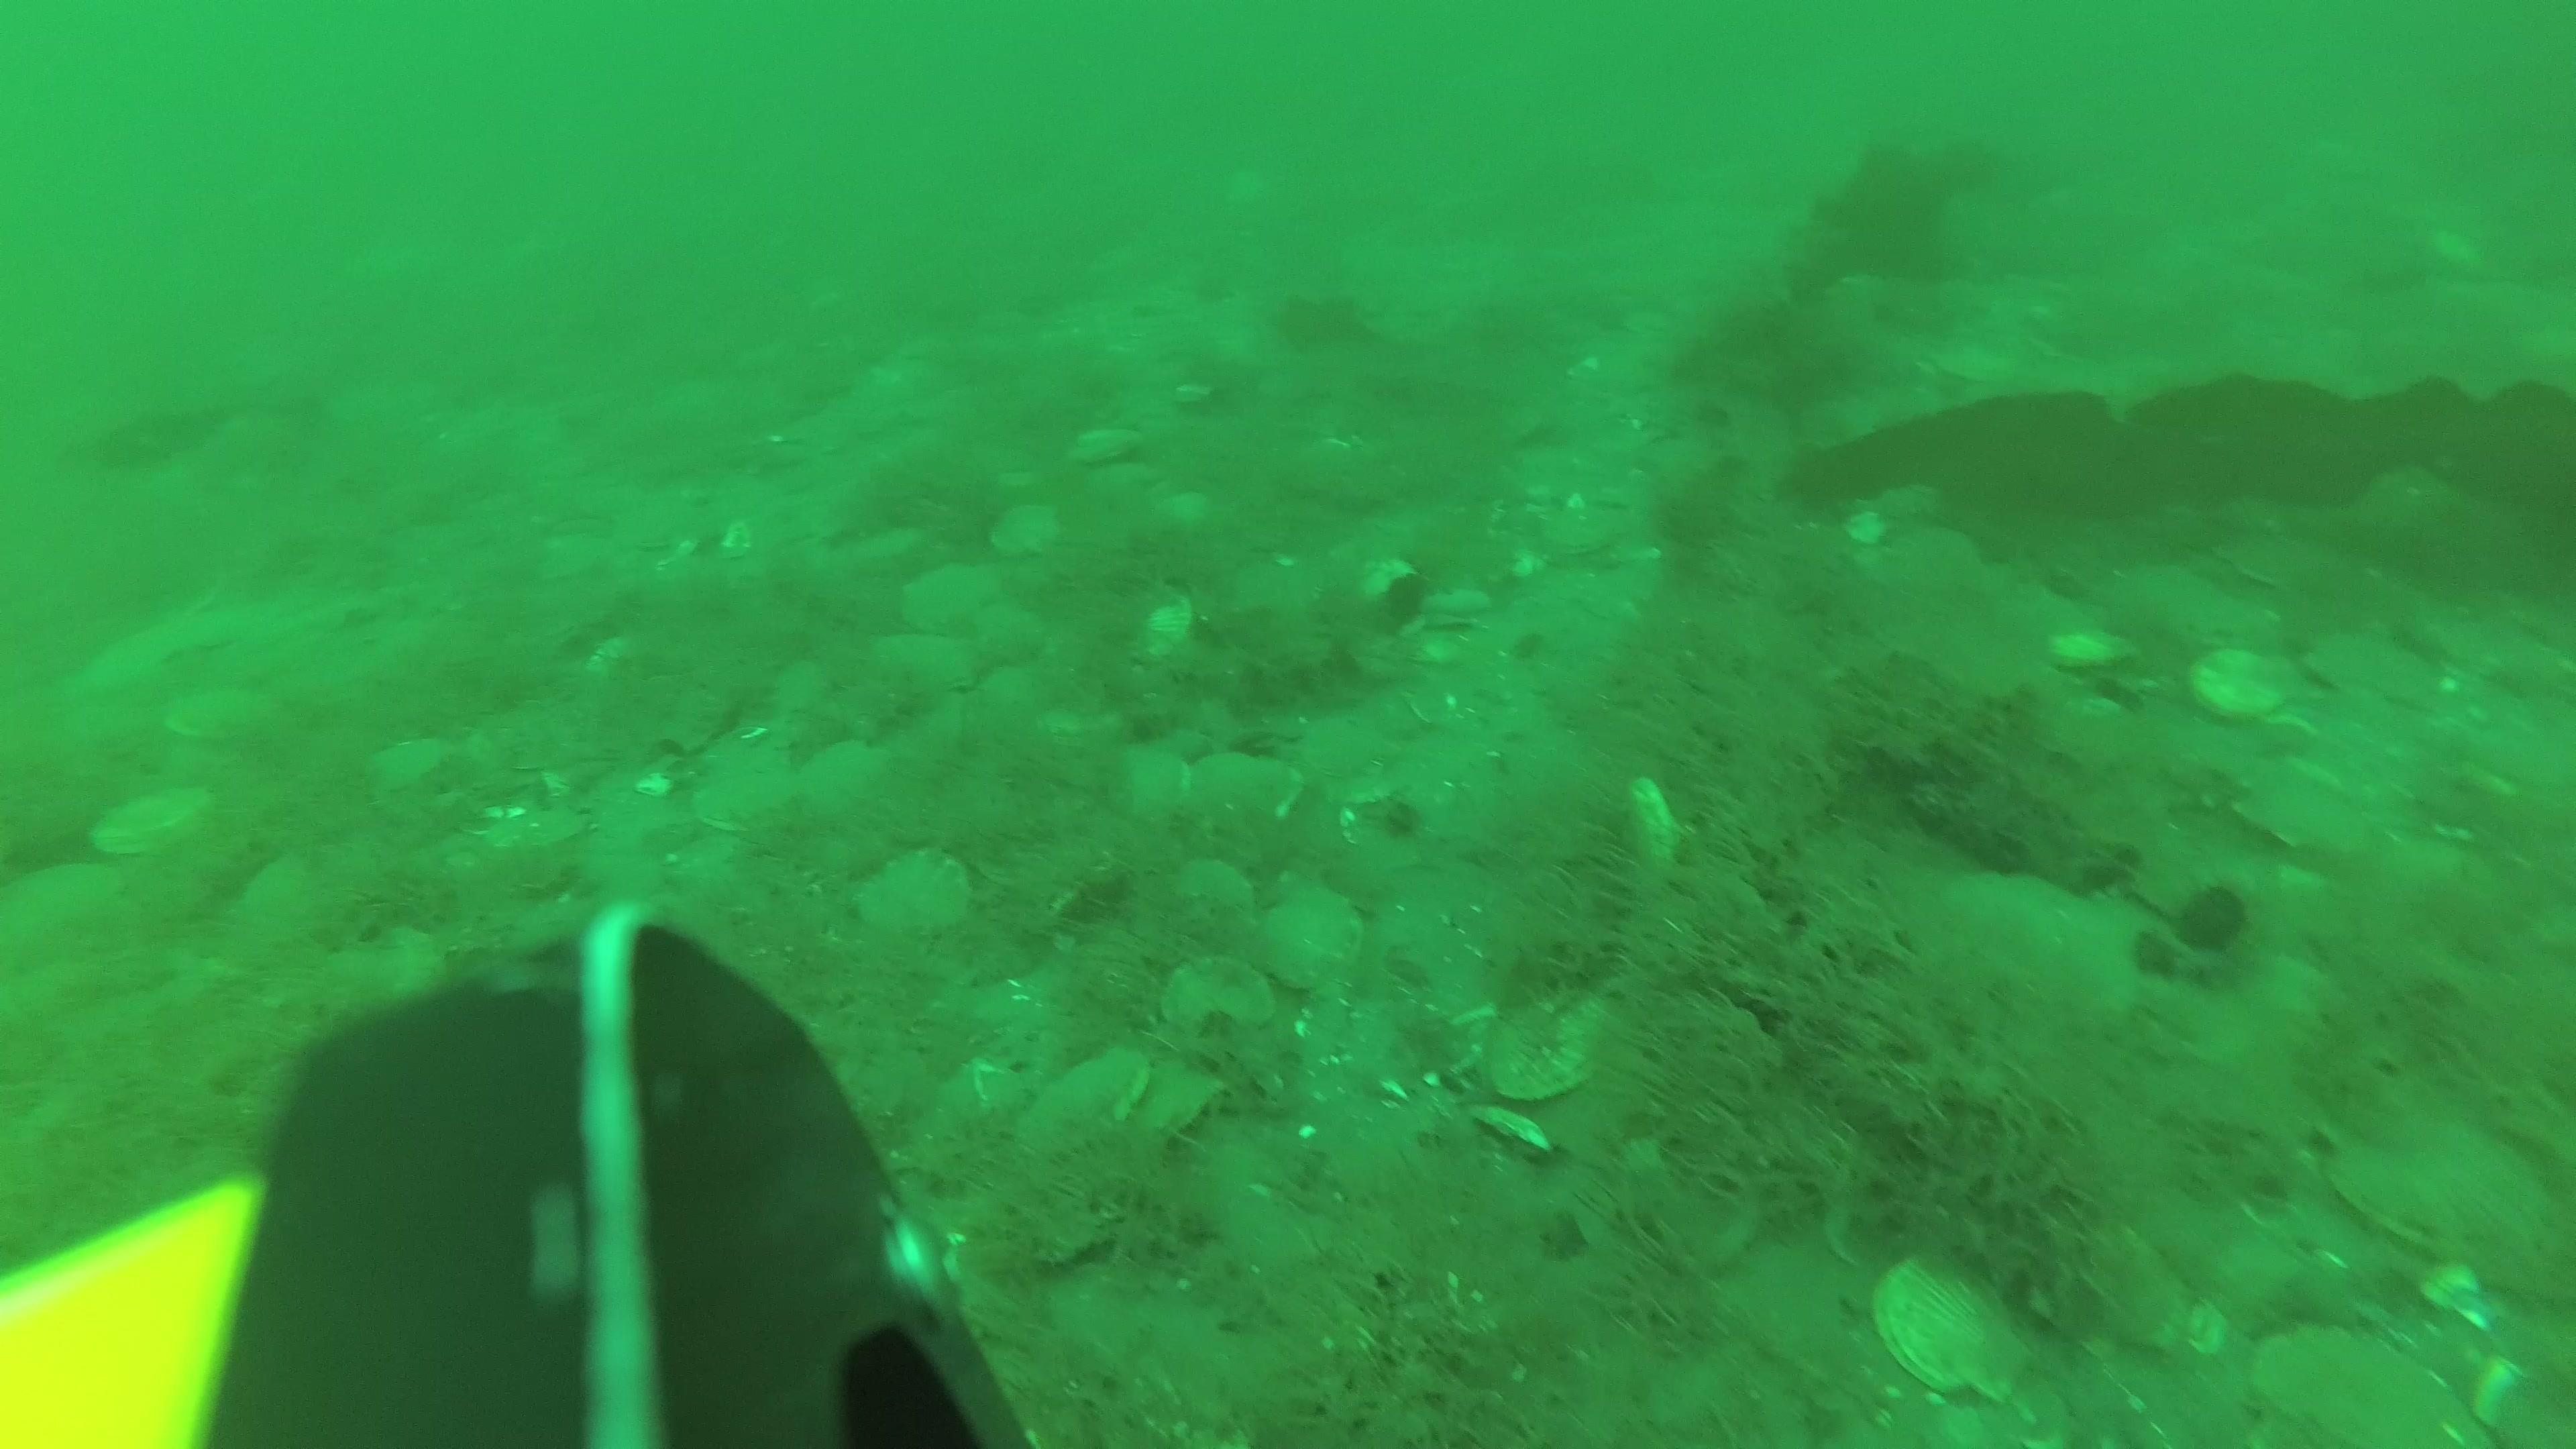scallop: (2334, 1097, 2546, 1263), (1941, 863, 2141, 1028), (2258, 1327, 2479, 1449), (1879, 1251, 2024, 1399), (1491, 985, 1626, 1116), (2231, 763, 2357, 870), (692, 732, 803, 839), (1024, 1060, 1131, 1159), (1118, 1067, 1228, 1162), (1258, 879, 1357, 984), (1175, 755, 1306, 832), (2316, 617, 2424, 709), (1169, 954, 1269, 1035), (1102, 736, 1196, 821), (863, 851, 961, 932), (2199, 649, 2302, 722), (179, 678, 274, 755), (902, 556, 1003, 628), (97, 791, 211, 853), (879, 625, 975, 694), (985, 495, 1069, 556), (1136, 580, 1192, 662)
